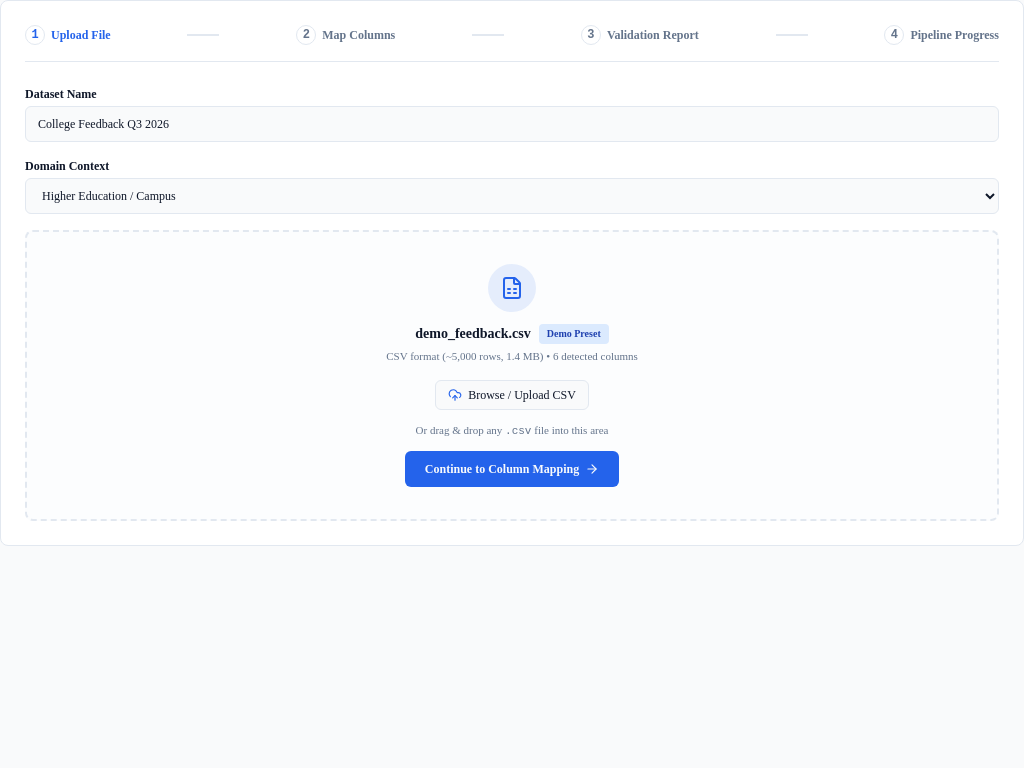
Test: UploadWizard Component › advances from step 2 to step 3 (Validation Report)
Click the button "Continue to Column Mapping" at (512, 469), box [405,451,619,487]
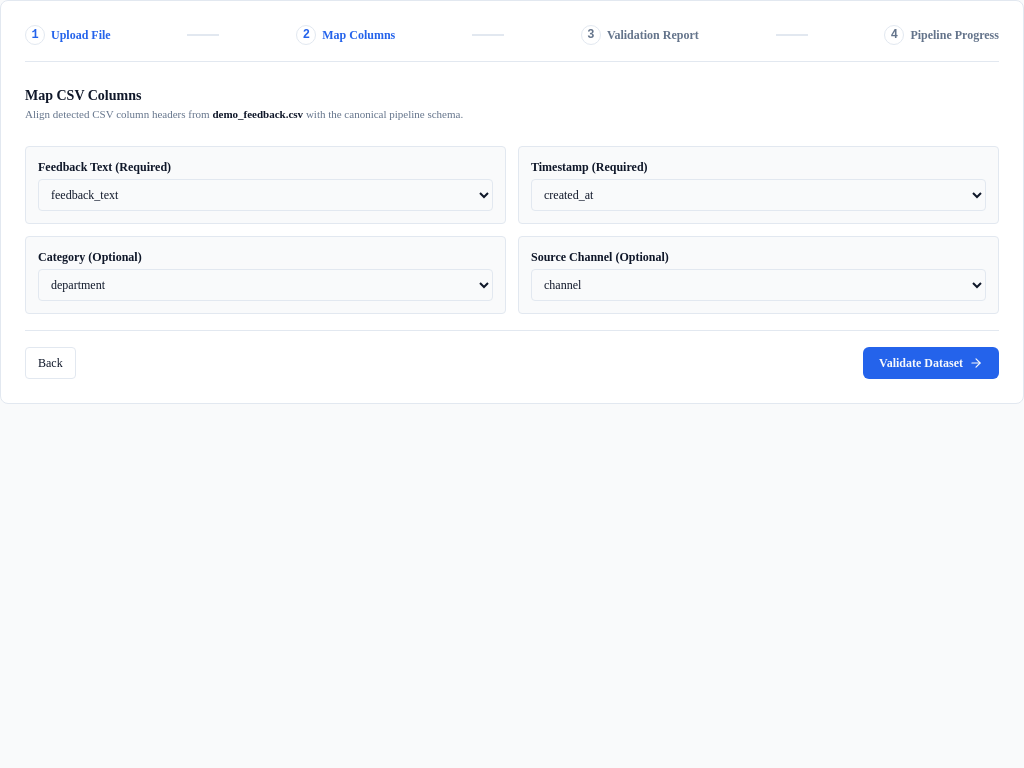
Click the button "Validate Dataset" at (931, 363), box [863,347,999,379]
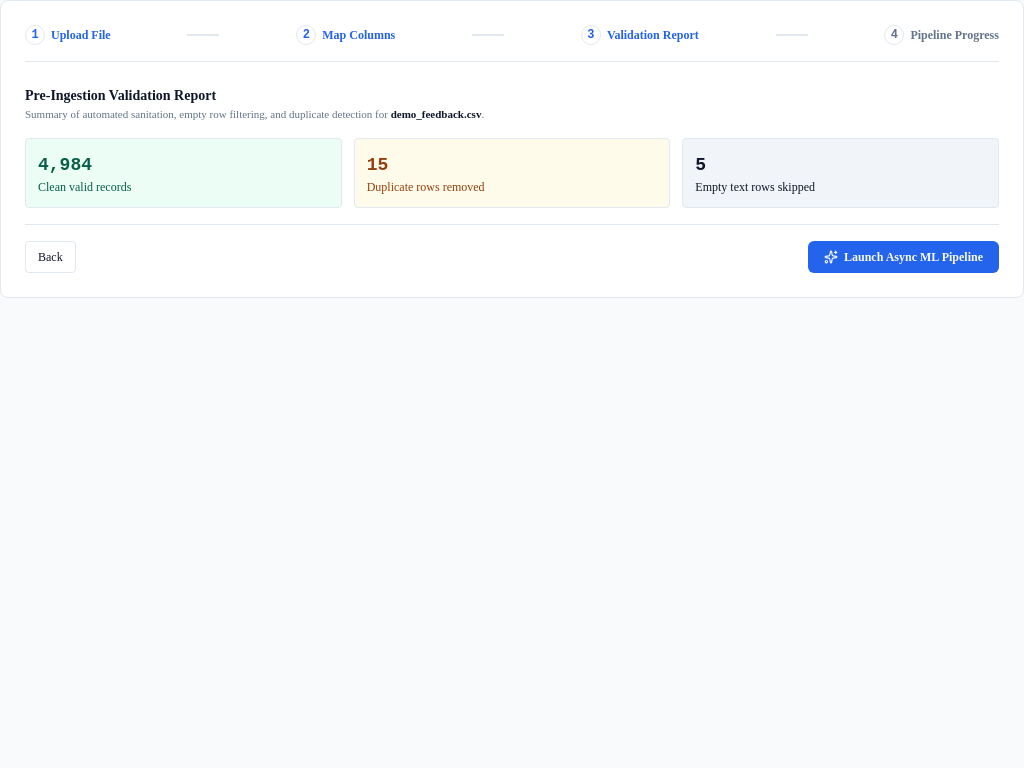
Now the heading "Pre-Ingestion Validation Report" is shown, box [25,88,216,103]
Now the text "Clean valid records" is shown, box [38,180,131,194]
